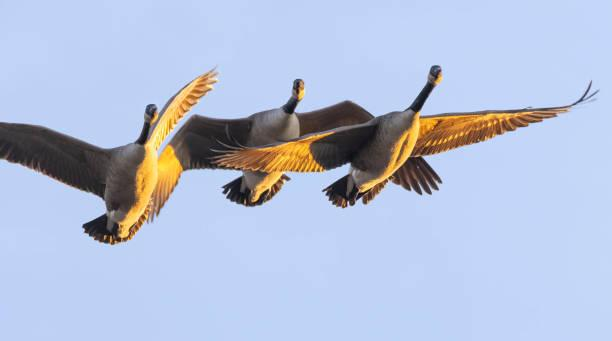Canadian-Goose: (223, 62, 594, 204), (0, 63, 209, 247), (169, 70, 425, 216)
